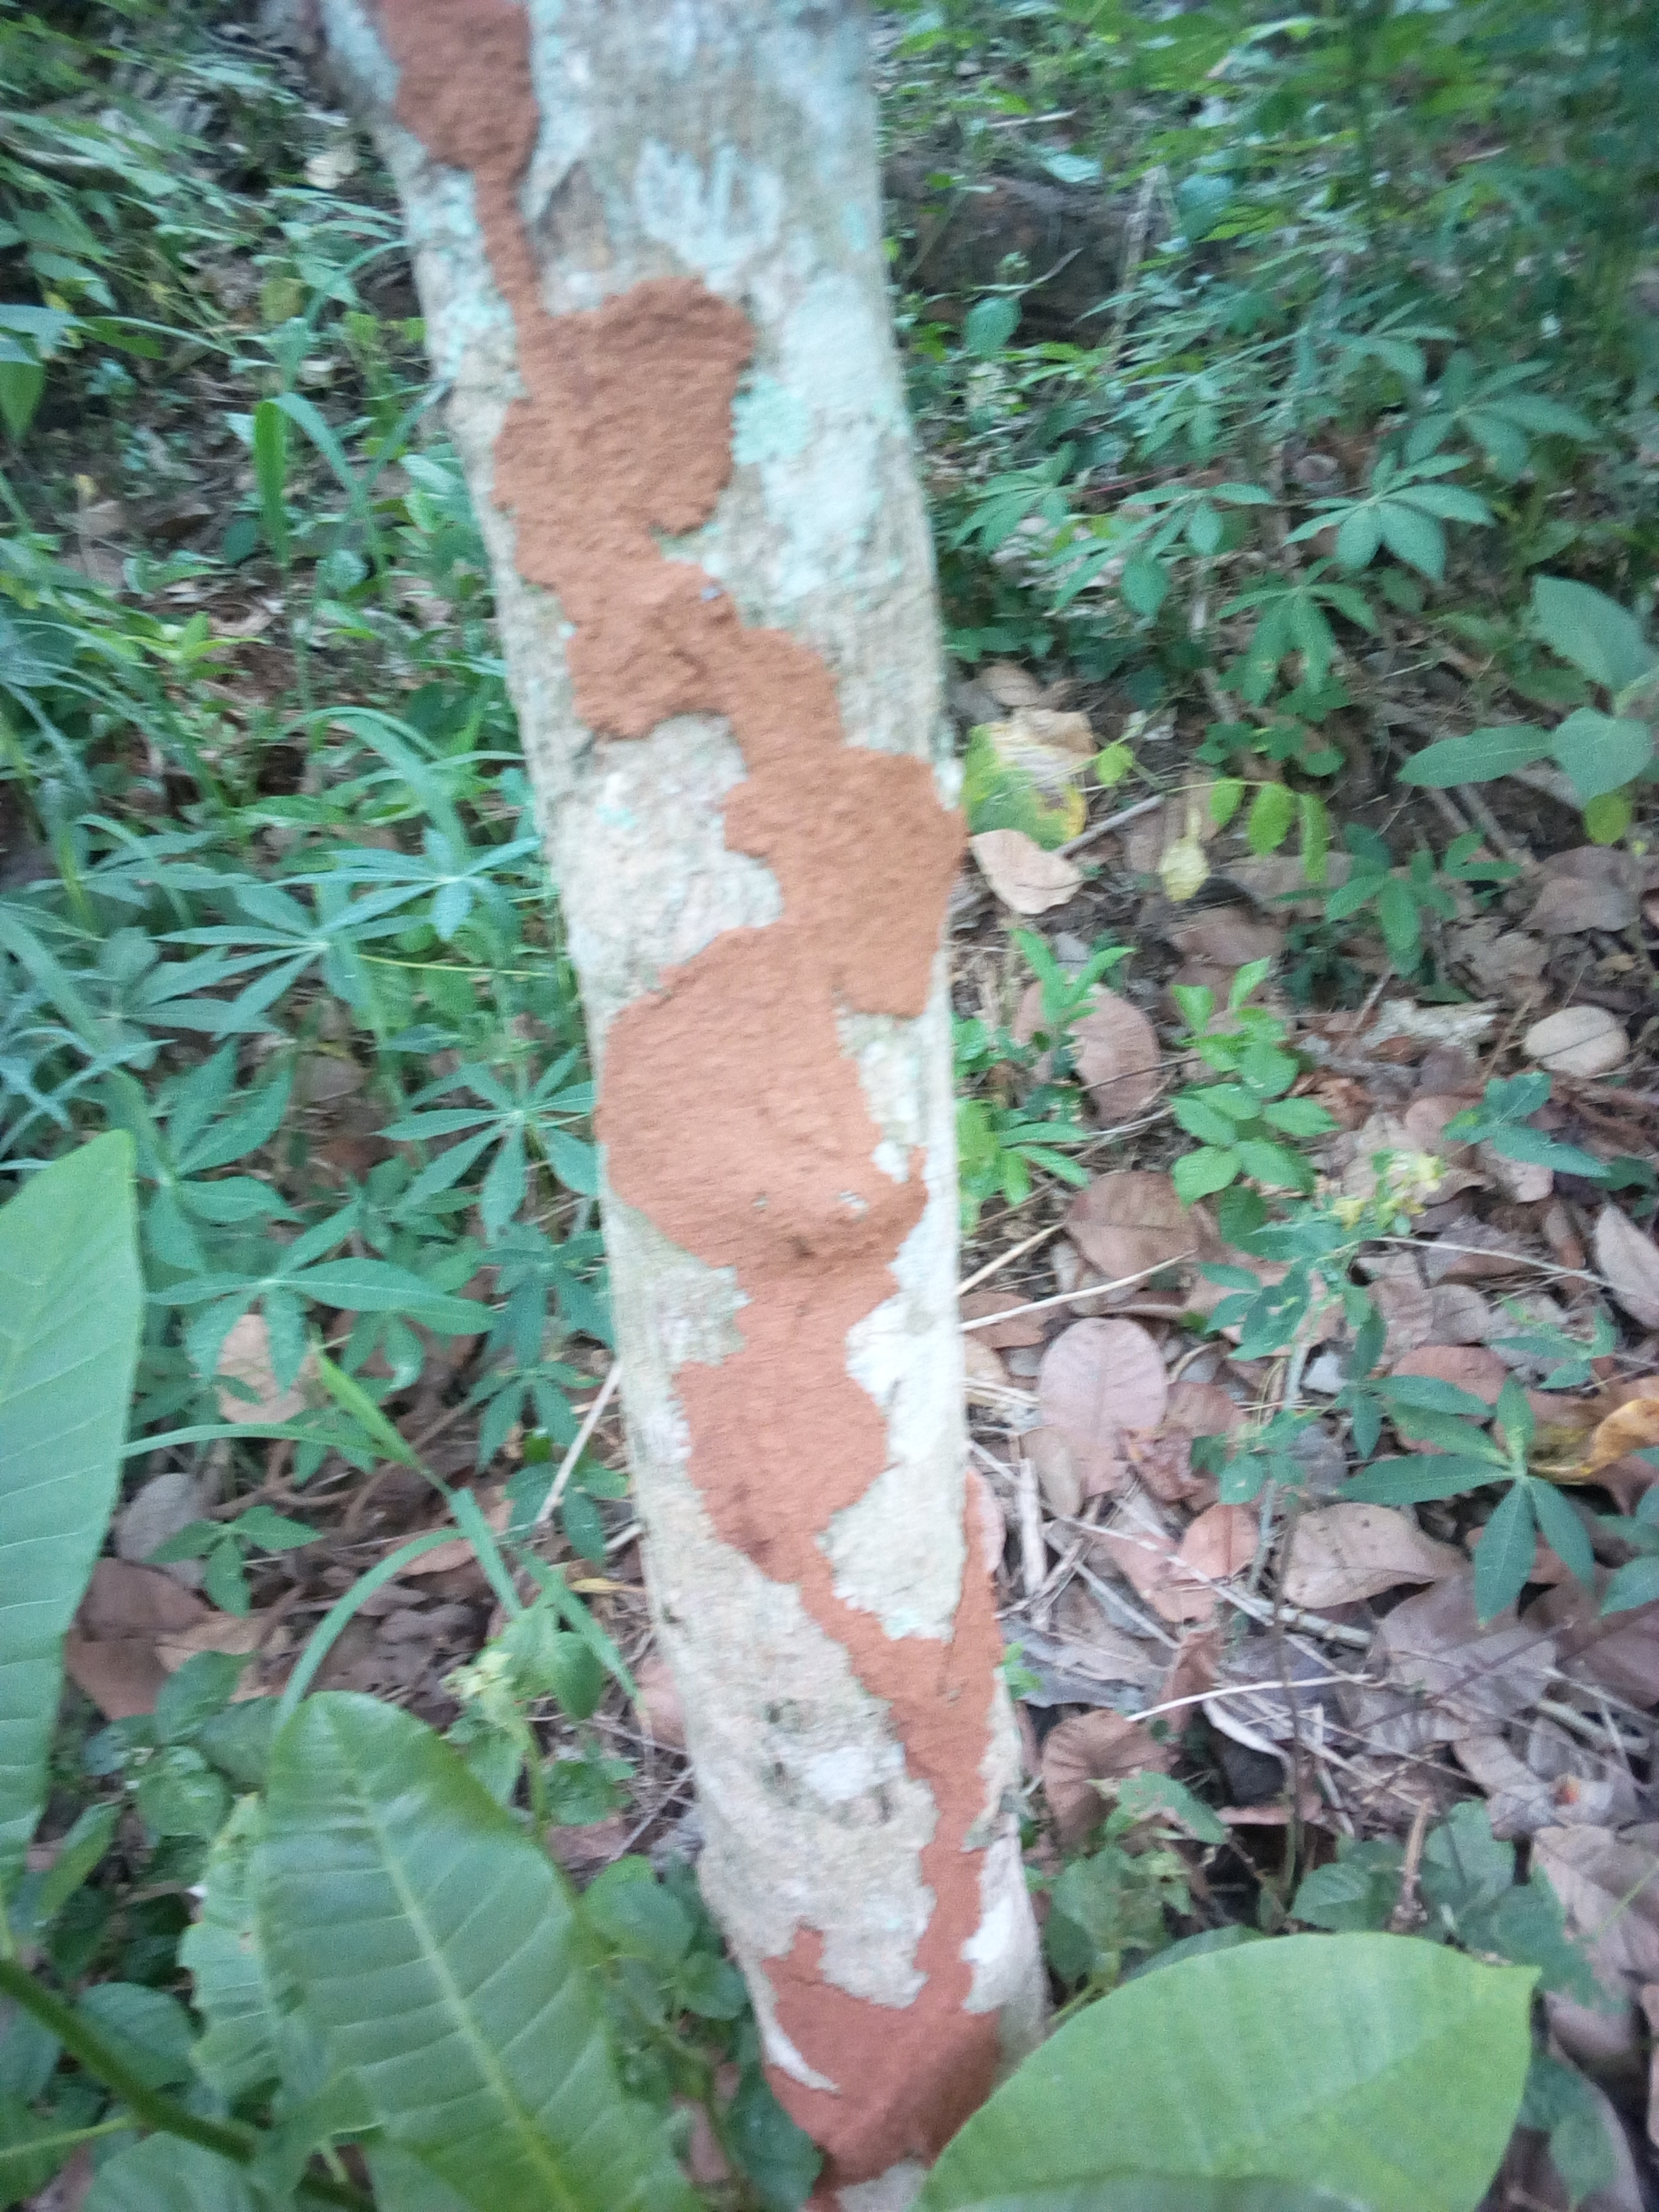Termites: (528, 28, 1063, 2102)
